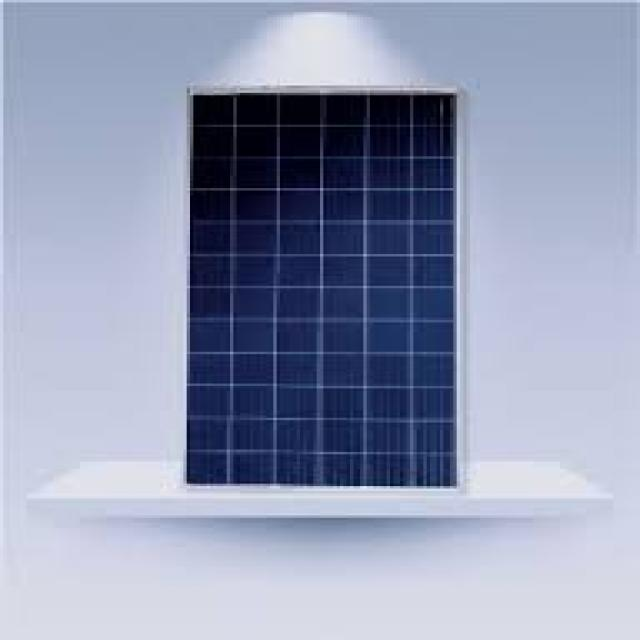Solar: (190, 88, 458, 491)
